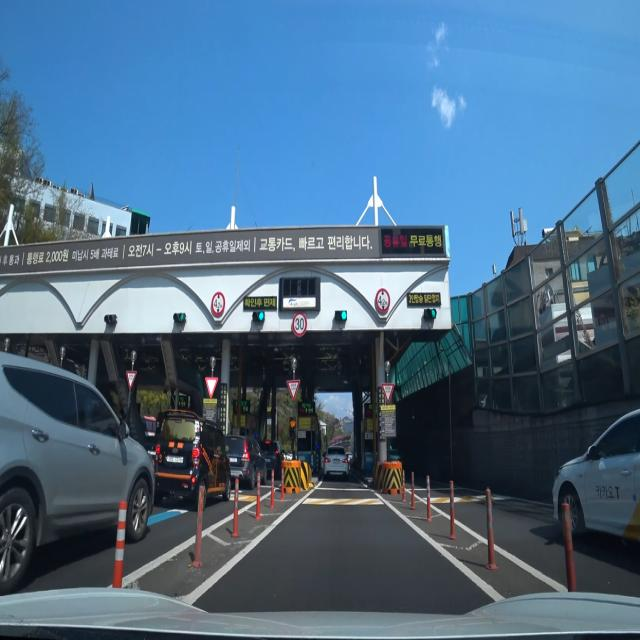Green Light: (258, 311, 264, 321), (341, 310, 347, 320), (179, 313, 184, 322)
Yellow Light: (290, 417, 296, 428)
